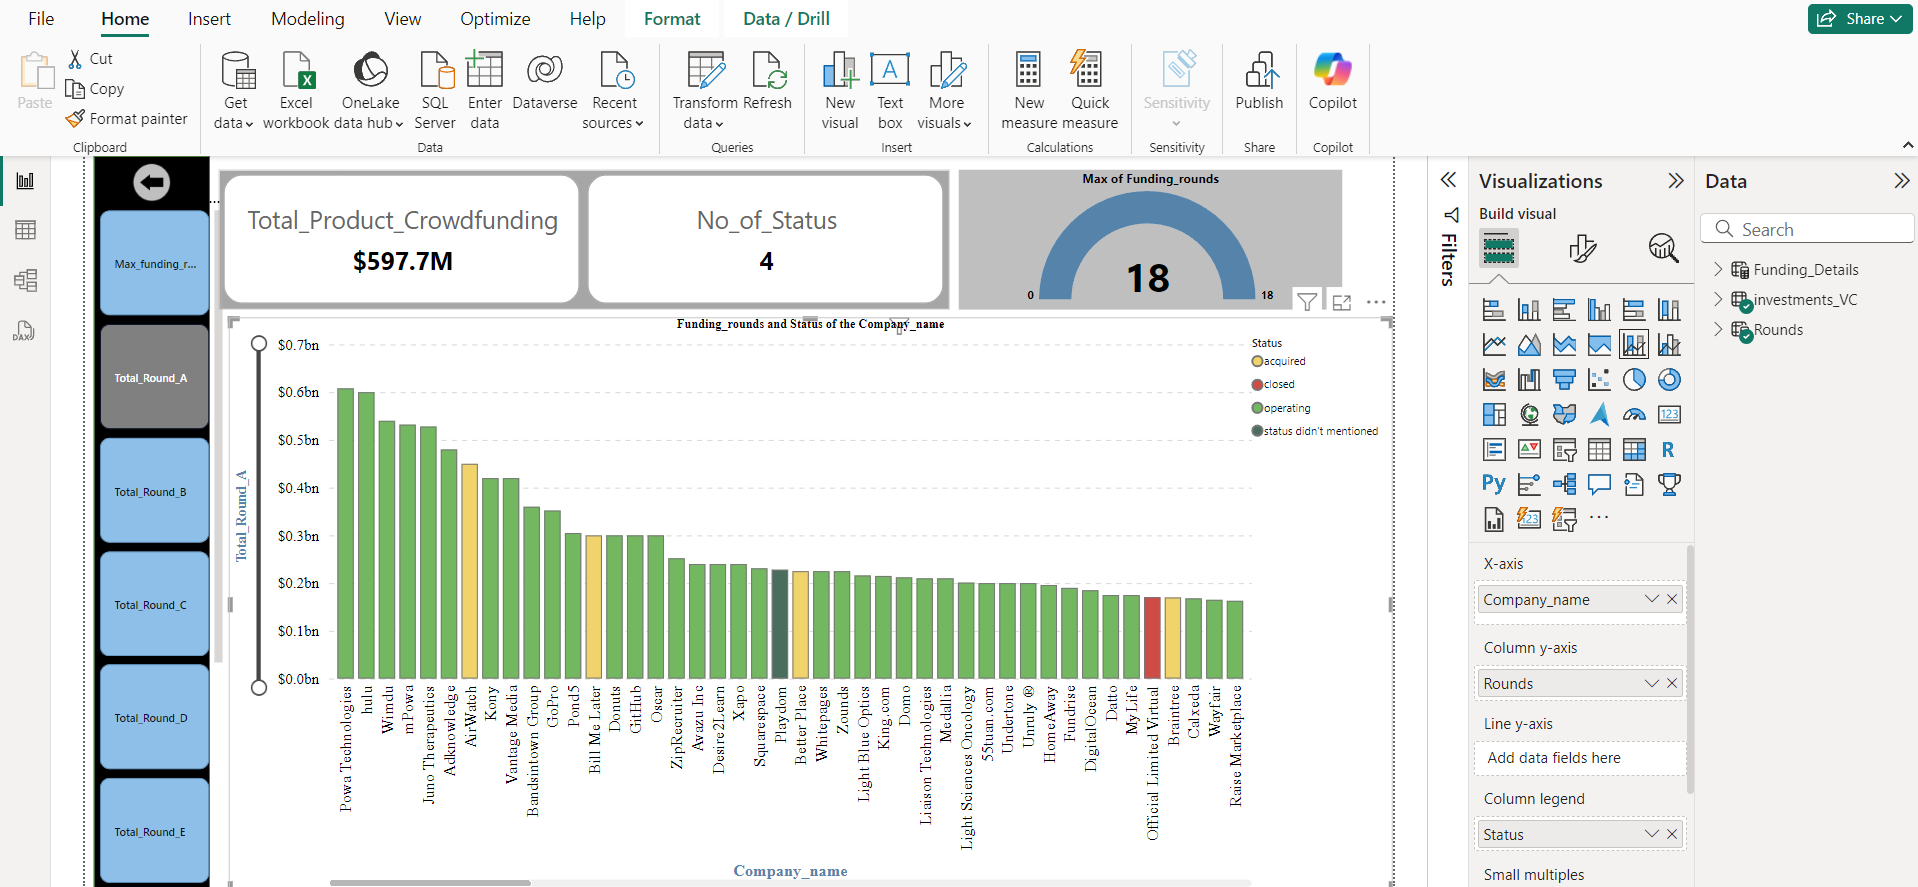

Layout of this report page (visuals, bound fields, positions):
{"tool":"powerbi","page":{"name":"Page 2","canvas":[1280,720],"ordinal":1},"visuals":[{"type":"shape","box":[9.2,0,113.7,1080.4],"z":0},{"type":"cardVisual","fields":{"Data":["investments_VC.Total_Product_Crowdfunding","investments_VC.Distinct"]},"box":[130.8,13.5,715.4,137],"z":1000},{"type":"kpi","box":[1287.6,34.9,533.8,394.4],"z":2000},{"type":"gauge","title":"Max of Funding_rounds","fields":{"Y":["Max(investments_VC.Funding_rounds)"],"MaxValue":["investments_VC.Max_funding_rounds"]},"box":[854.8,13.5,375.4,137],"z":3000},{"type":"lineStackedColumnComboChart","title":"Funding_rounds and Status of the Company_name","fields":{"Y":["investments_VC.Max_funding_rounds"],"Category":["investments_VC.Company_name"],"Series":["investments_VC.Status"]},"box":[140.8,157.1,1138.8,563.3],"z":4000},{"type":"advancedSlicerVisual","title":"Total Rounds with Companies","fields":{"Values":["Rounds.Rounds"]},"box":[10,35,130,685],"z":5000},{"type":"image","box":[41.6,0,47.7,51.4],"z":6000}]}

Visuals, with their boxes on the page's 1280x720 design canvas (x1, y1, x2, y2). These are canvas units, not pixel positions in the 1918x887 screenshot, which may show the page scaled, cropped or inside an application window:
shape: [9, 0, 123, 1080]
cardVisual - investments_VC.Total_Product_Crowdfunding x investments_VC.Distinct: [131, 14, 846, 150]
kpi: [1288, 35, 1821, 429]
"Max of Funding_rounds" gauge: [855, 14, 1230, 150]
"Funding_rounds and Status of the Company_name" lineStackedColumnComboChart: [141, 157, 1280, 720]
"Total Rounds with Companies" advancedSlicerVisual: [10, 35, 140, 720]
image: [42, 0, 89, 51]
